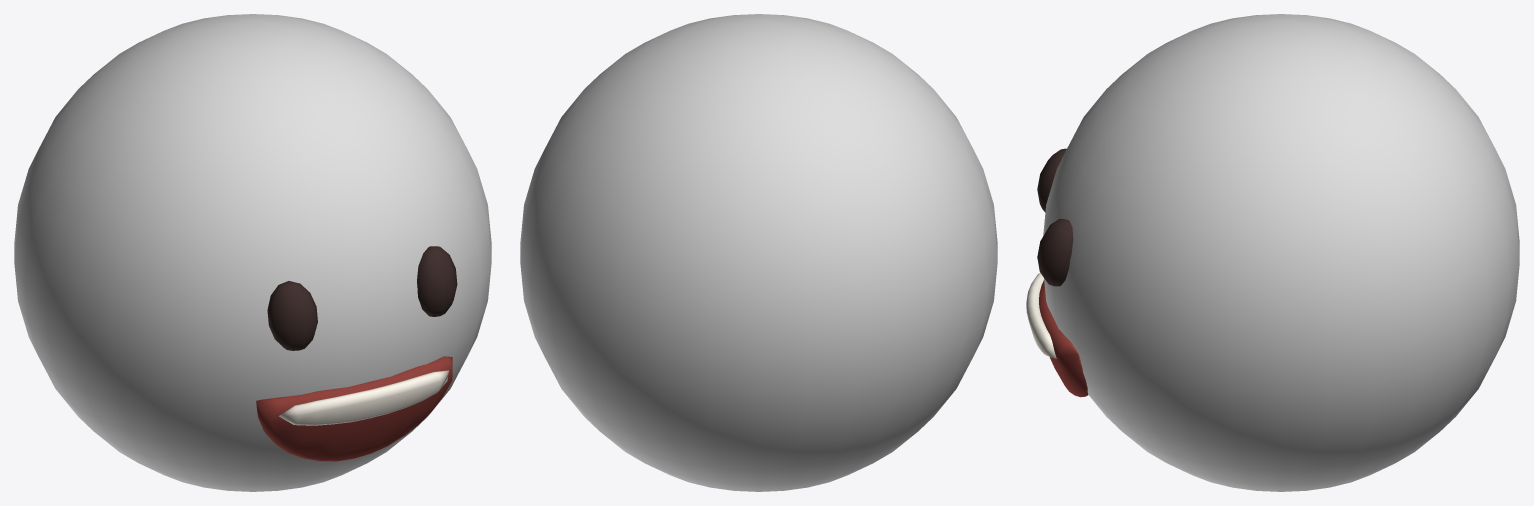
File: face_grin.glb
3 renders of one model, left to right at view 1: azimuth 30°, elevation 25°; view 2: azimuth 150°, elevation 25°; view 3: azimuth 270°, elevation 25°, orthographic.
Parts seen in each view (by area): view 1: face_grin; view 2: face_grin; view 3: face_grin.
Part boxes in pixels (<box>): face_grin: <box>14,14,491,491</box>; face_grin: <box>520,14,997,491</box>; face_grin: <box>1026,14,1519,491</box>.
Size of the model in its own units: 1 by 1 by 1.03.
